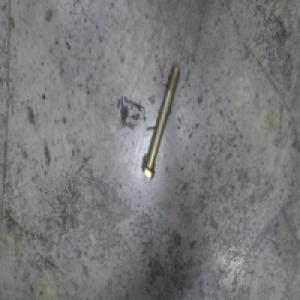Bolt: (140, 64, 183, 179)
